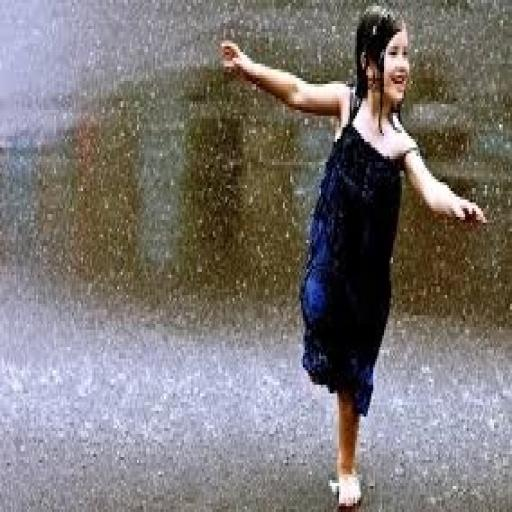dancing: (218, 3, 489, 509)
